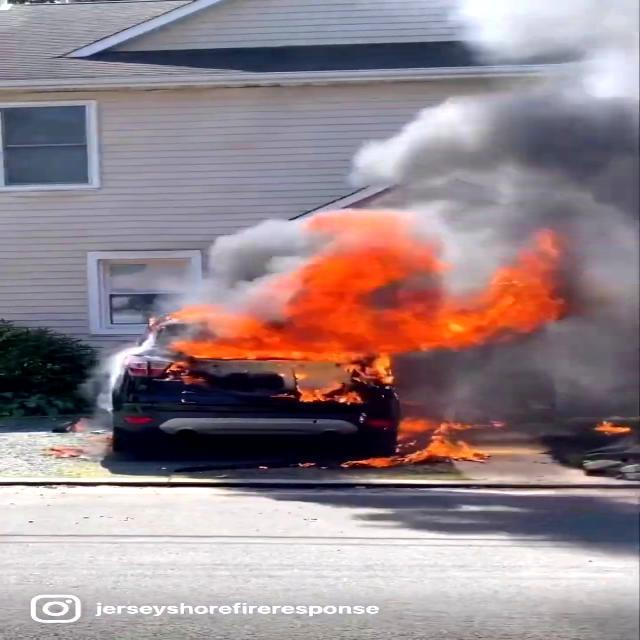Fire: (166, 230, 558, 390), (372, 412, 494, 474)
Smoke: (366, 1, 640, 246), (403, 310, 640, 432)
